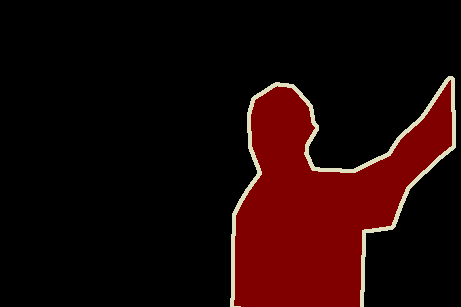person: (233, 76, 454, 307)
